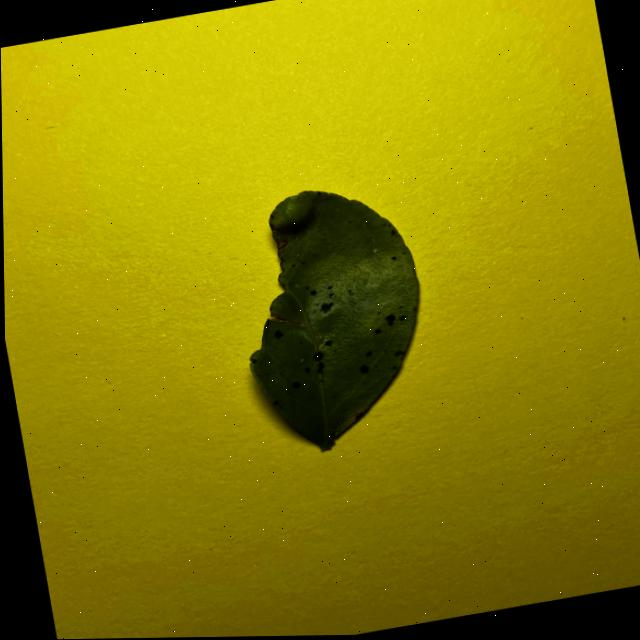sooty_mold: (249, 190, 418, 449)
